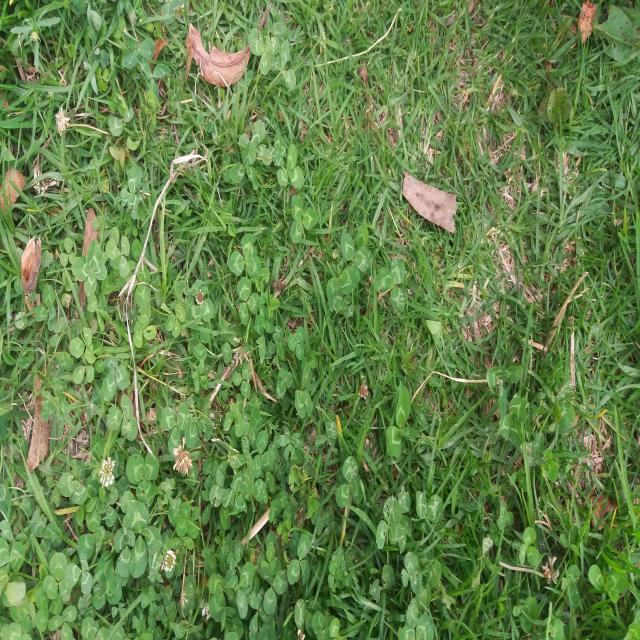Four Leaf Clover: (71, 240, 107, 298), (520, 432, 547, 469), (268, 134, 286, 166)
